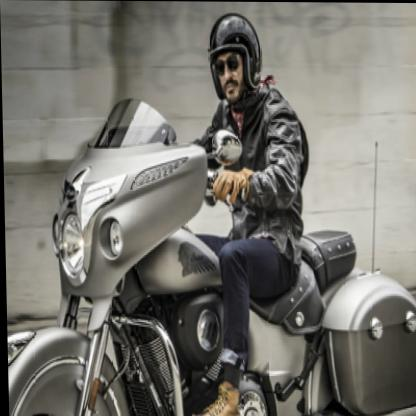With Helmet: (201, 11, 264, 100)
